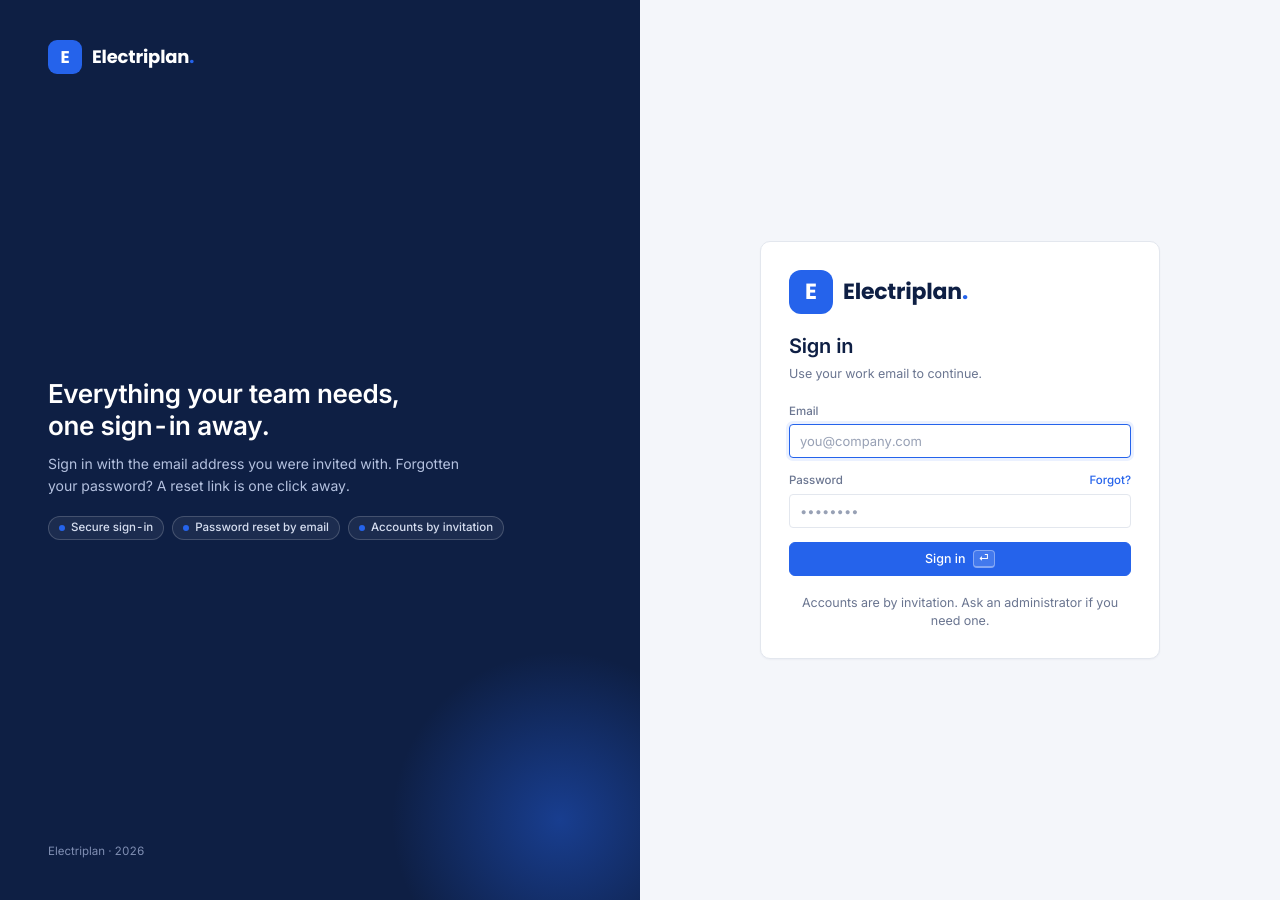
Login › shows why sign-in failed
Step 1. Type "sam@example.com" into the field labelled "Email" → (960, 441), box [789,424,1131,458]
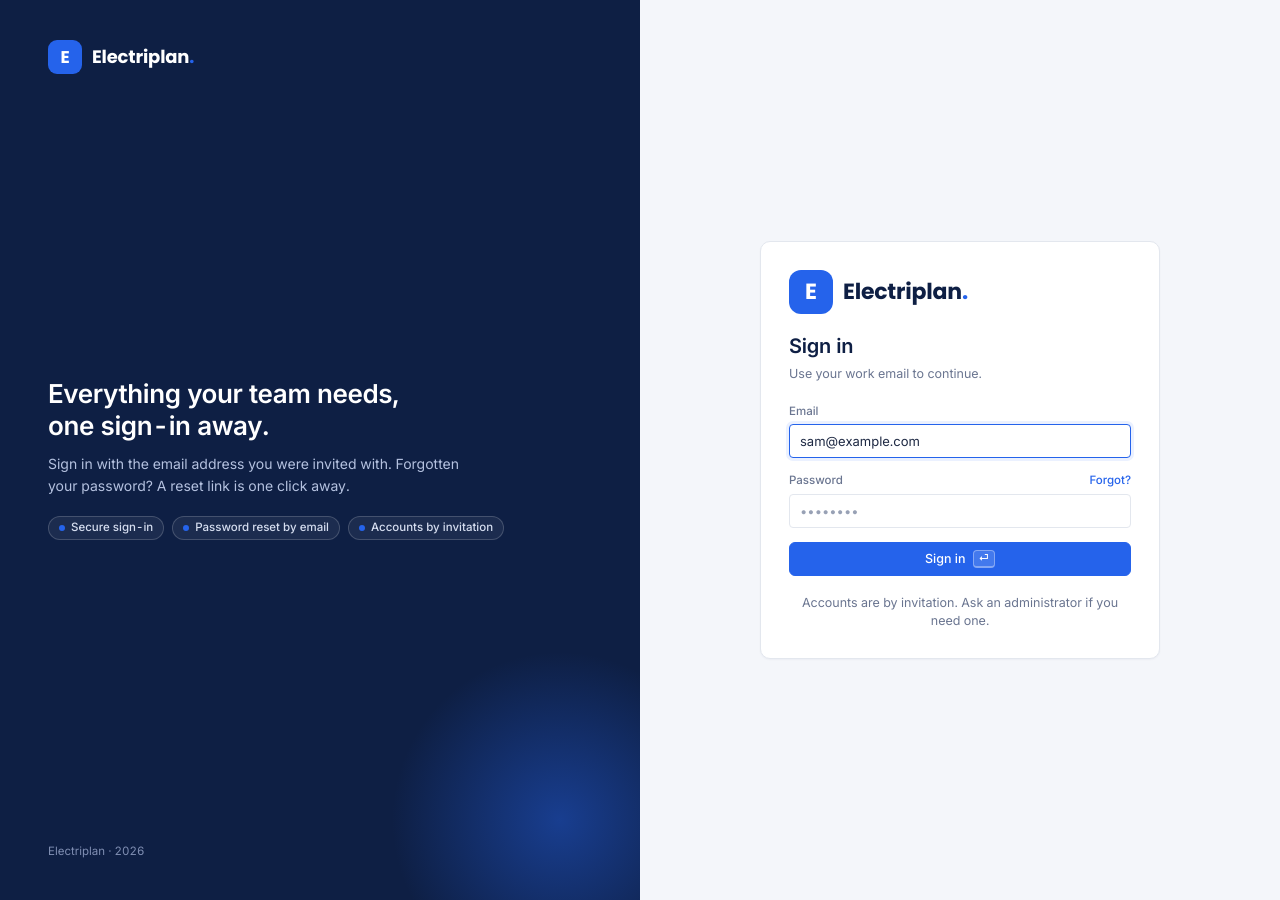
Step 2. Type "wrong" into the password field labelled "Password" → (960, 511), box [789,494,1131,528]
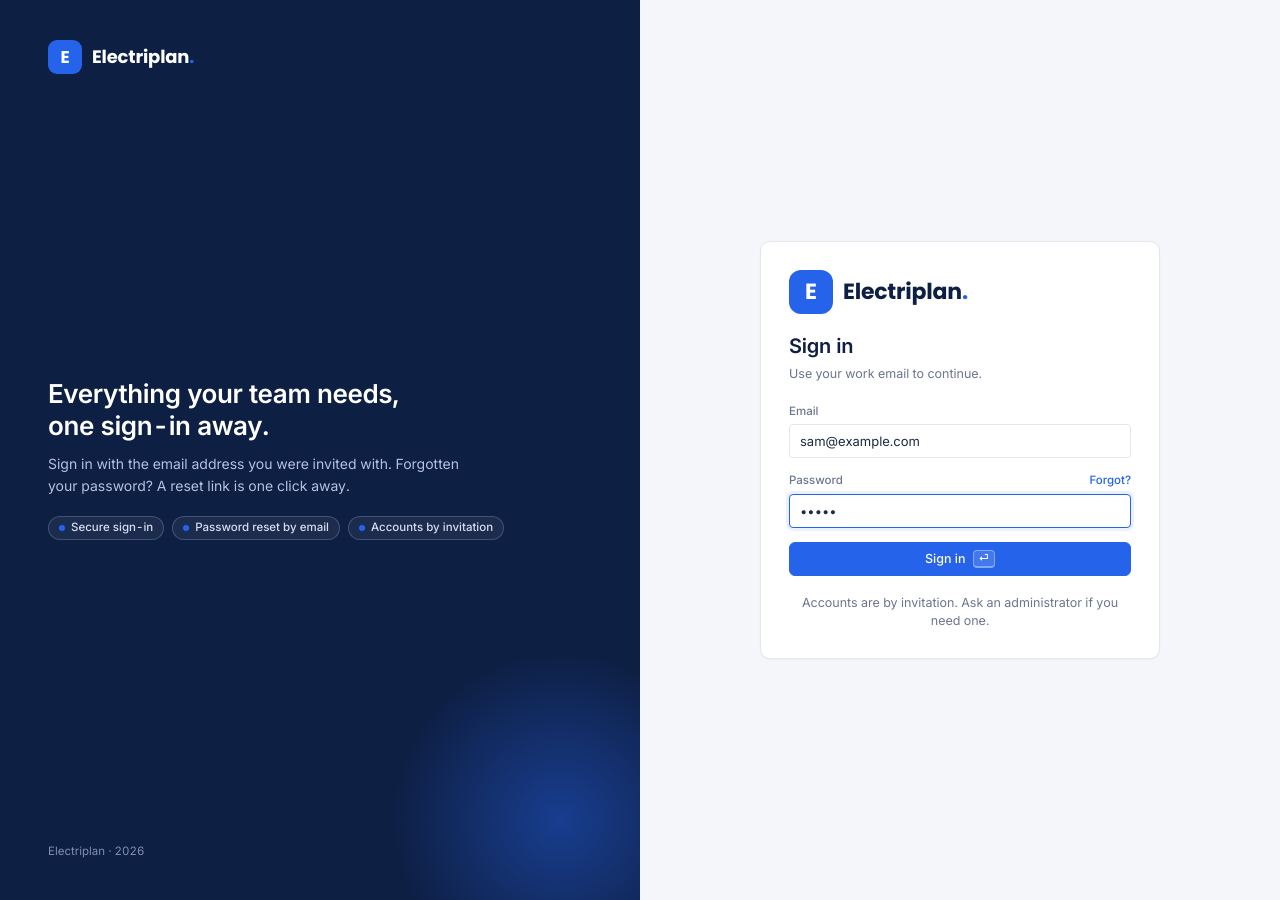
Step 3. Click the button "Sign in ⏎" → (960, 559), box [789,542,1131,576]
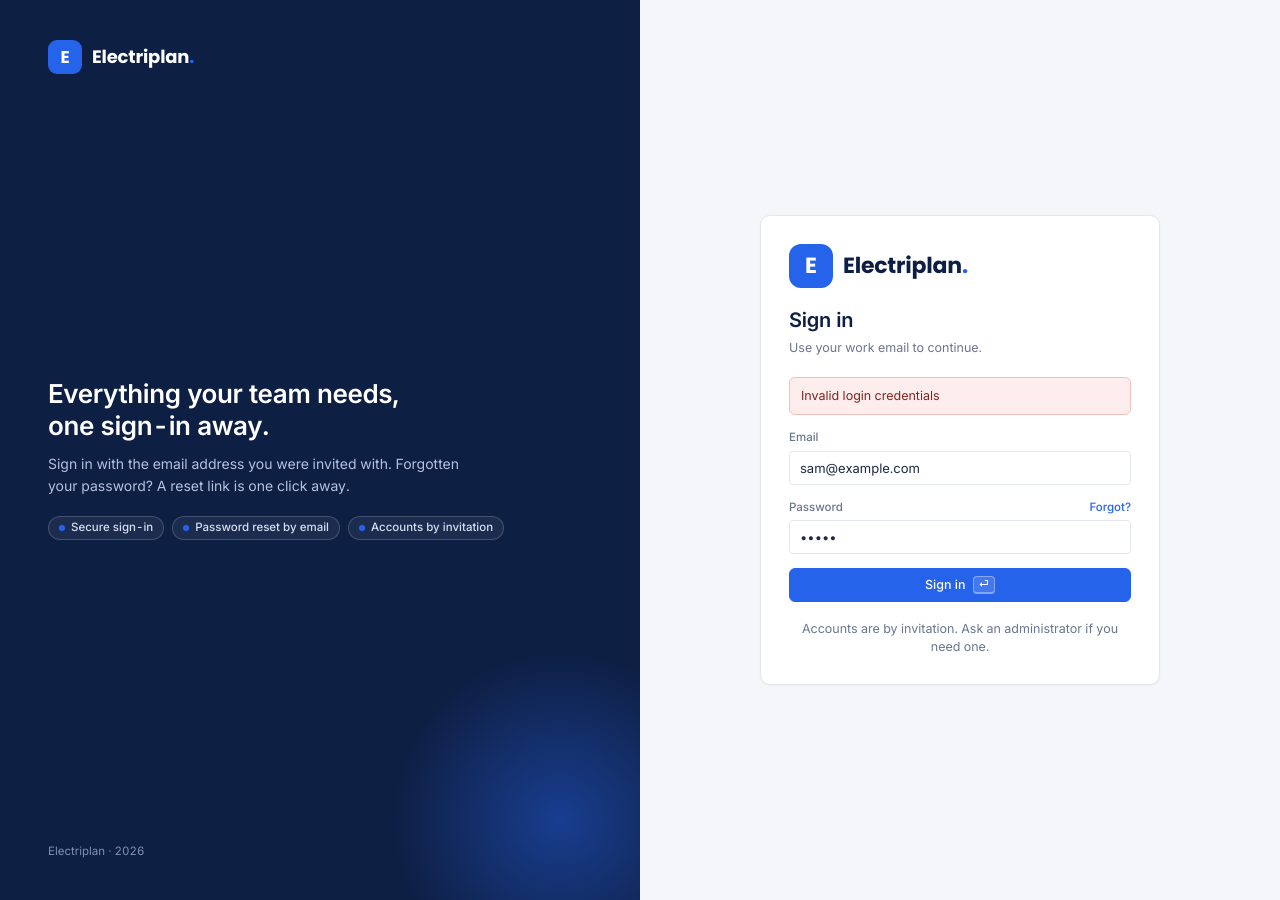
Check: the text "Invalid login credentials" is shown, box [789,377,1131,415]
